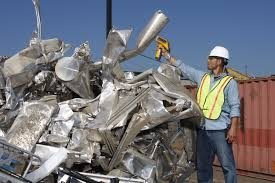metal: (90, 63, 204, 134), (123, 6, 171, 61), (1, 137, 47, 183), (46, 48, 89, 93), (110, 148, 164, 183)
